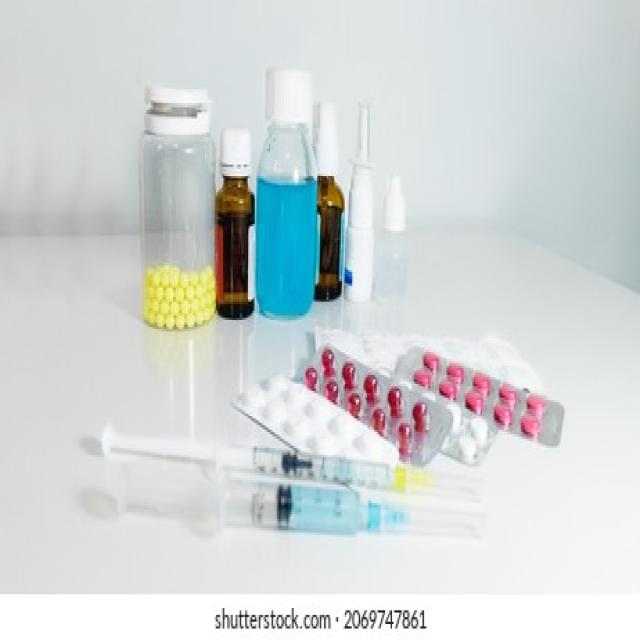B3: (104, 464, 482, 555), (292, 332, 453, 473), (393, 336, 564, 459), (246, 57, 322, 327), (211, 107, 259, 343), (304, 96, 348, 306)
